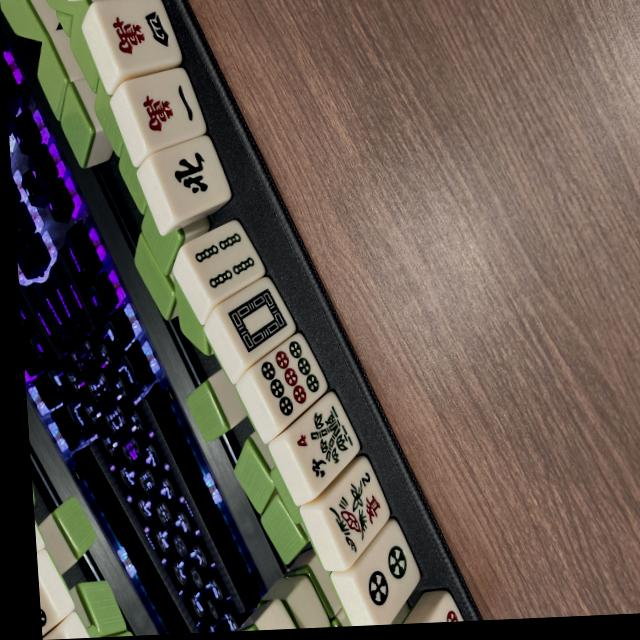1C: (123, 68, 210, 157)
2D: (345, 520, 429, 626)
3D: (316, 458, 403, 571)
4B: (177, 220, 266, 307)
4C: (95, 0, 186, 79)
4F: (270, 392, 366, 500)
9D: (246, 329, 337, 431)
NW: (154, 132, 236, 221)
WD: (214, 278, 302, 367)
